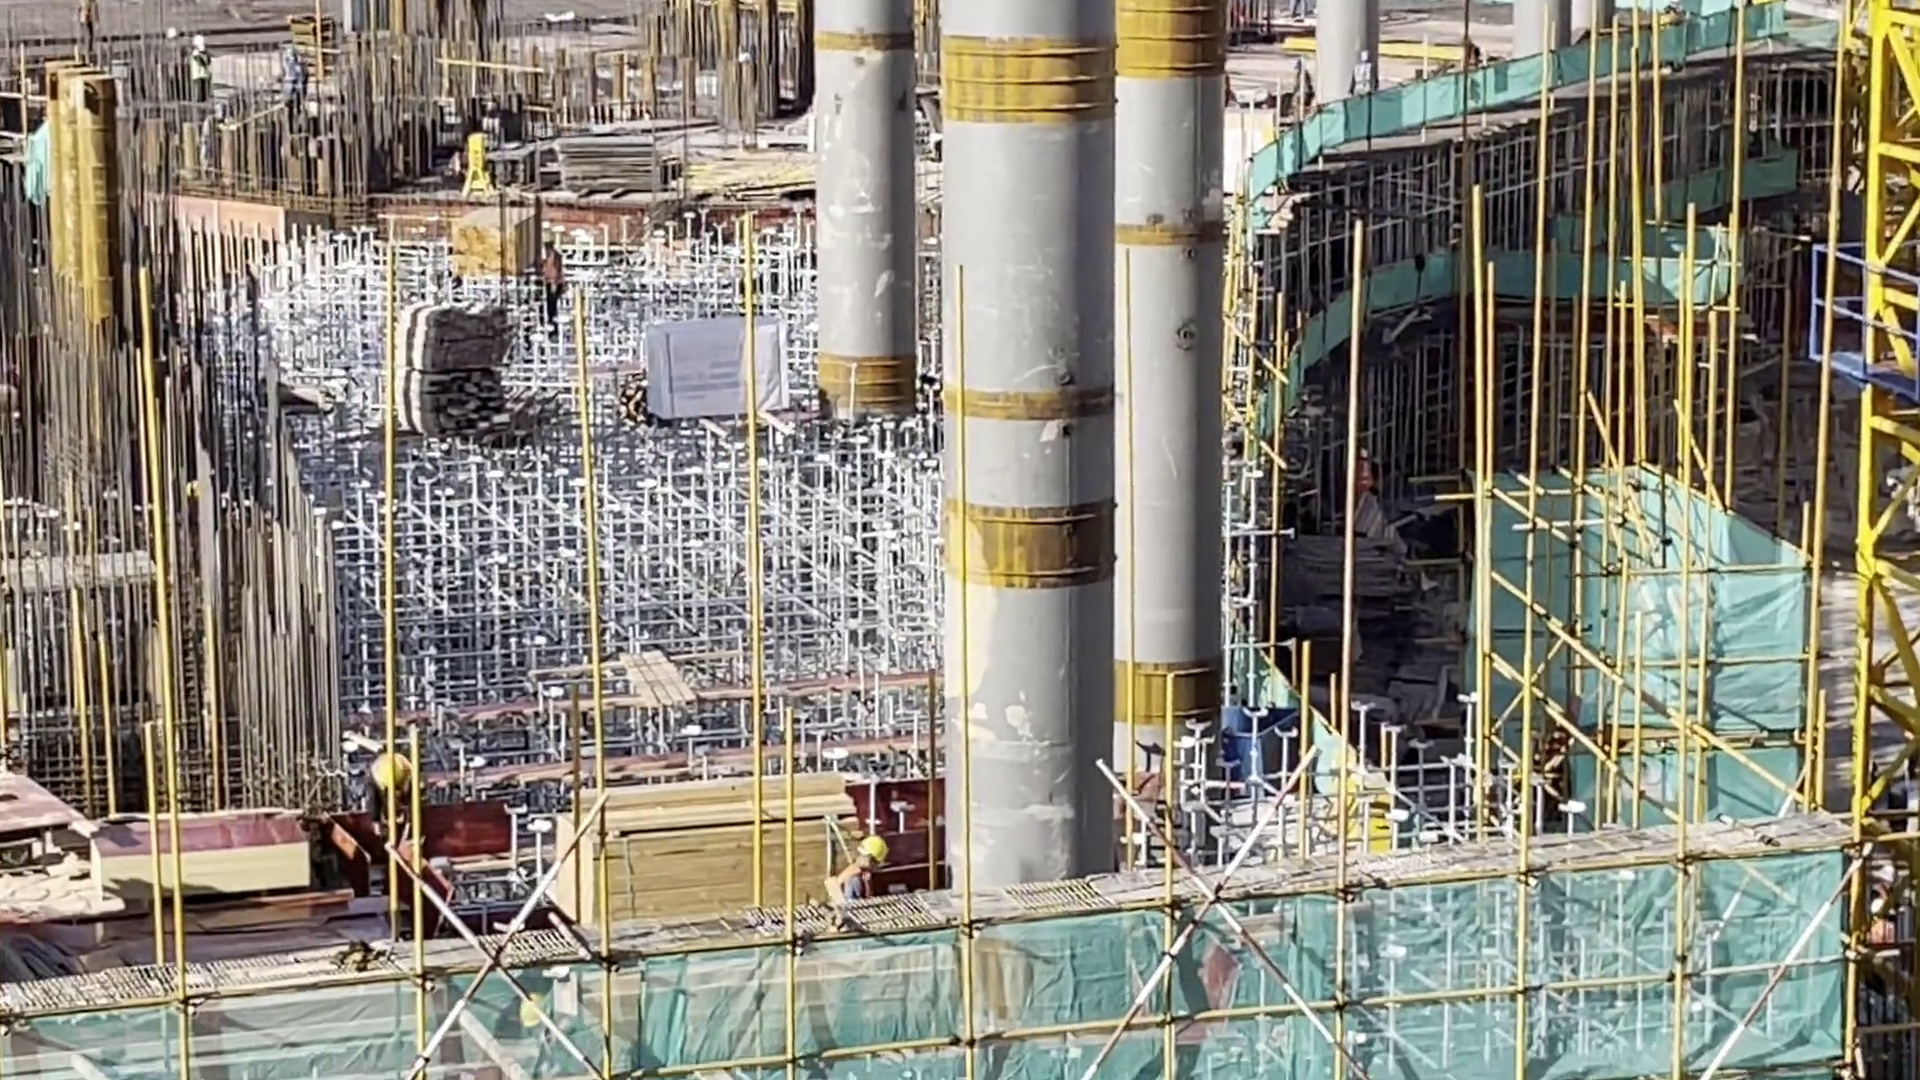helmet: (362, 743, 426, 797), (851, 824, 895, 872)
person: (334, 734, 451, 845), (830, 828, 918, 901)
